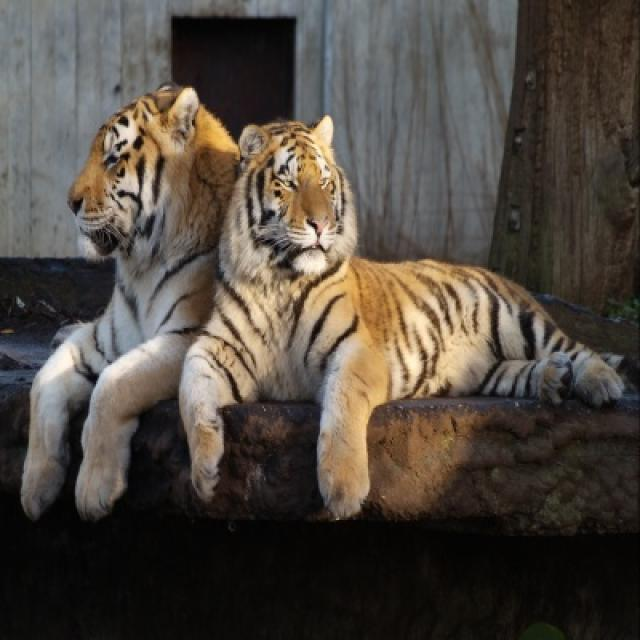Tiger: (21, 83, 622, 518)
